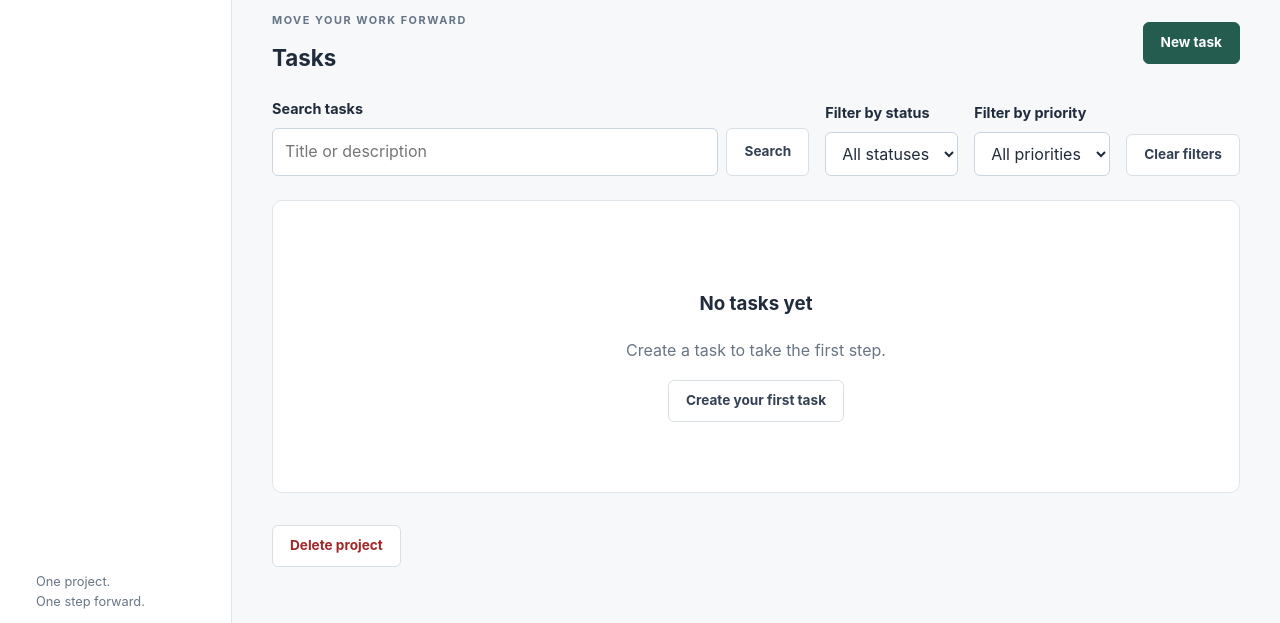
Scenario: blocks duplicate creation and preserves/focuses input after server validation fails
The width and height of the screenshot is (1280, 623).
(page scrolled)
Click the button "Create your first task" at x=756, y=401, box [668,380,844,422]
(page scrolled)
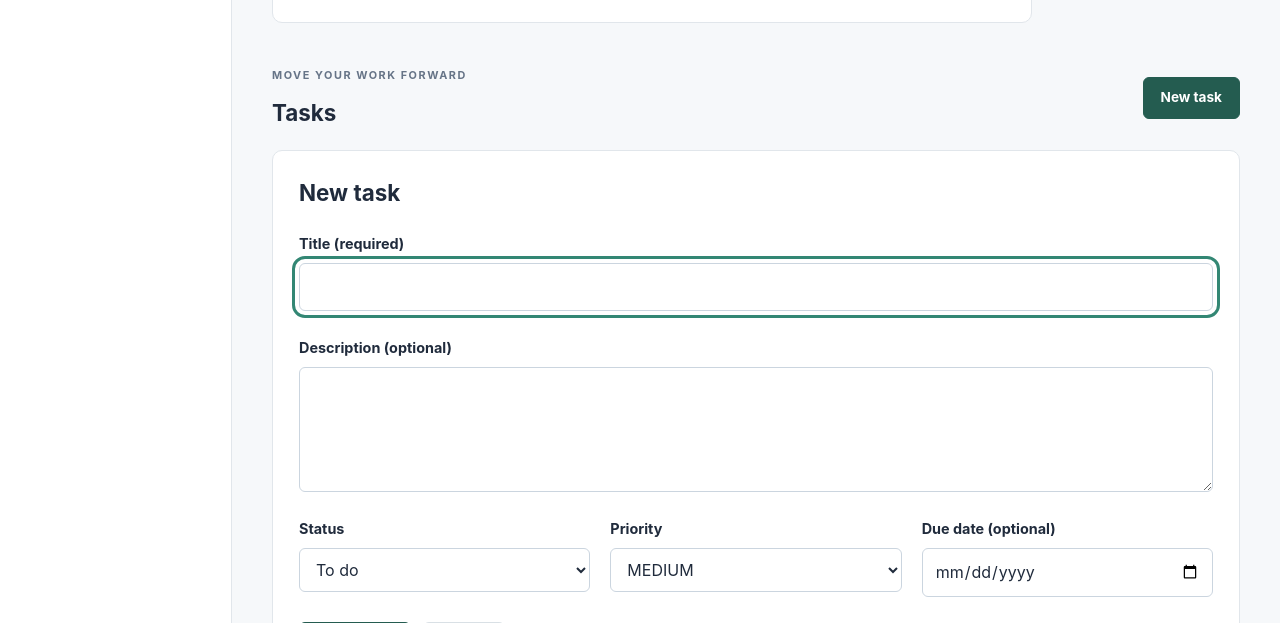
Type "Keep my input" into the field labelled "Title (required)" at x=756, y=287, box [299,264,1213,311]
(page scrolled)
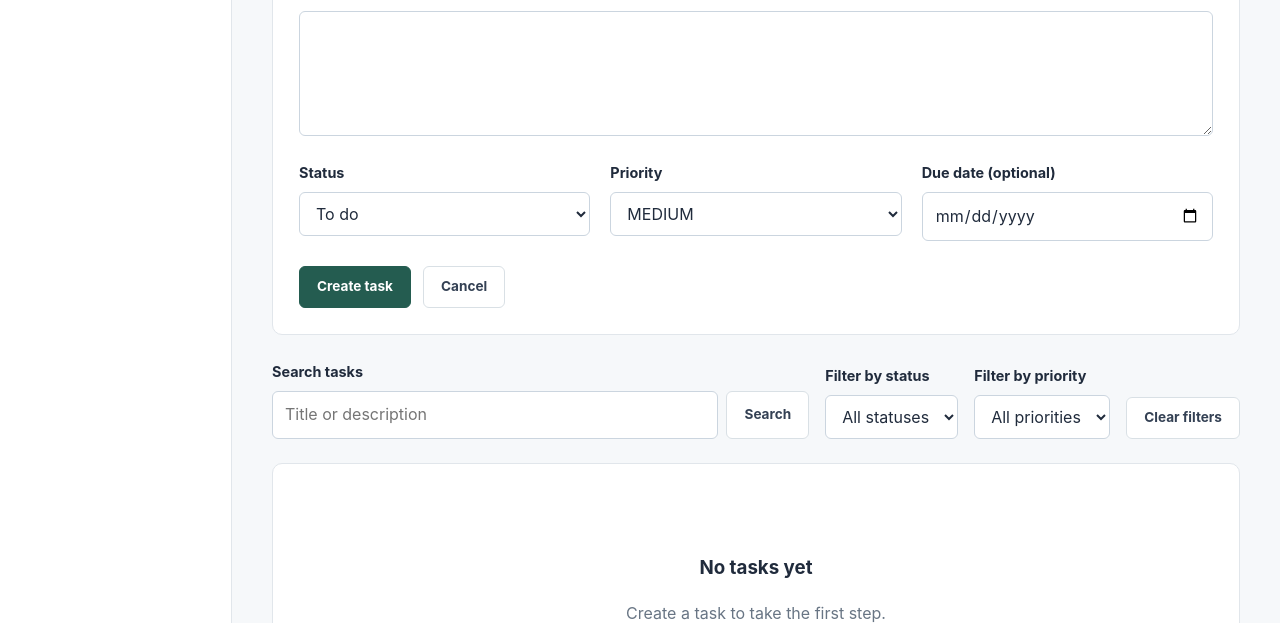
Click the button "Create task" at x=355, y=287, box [299,266,411,308]
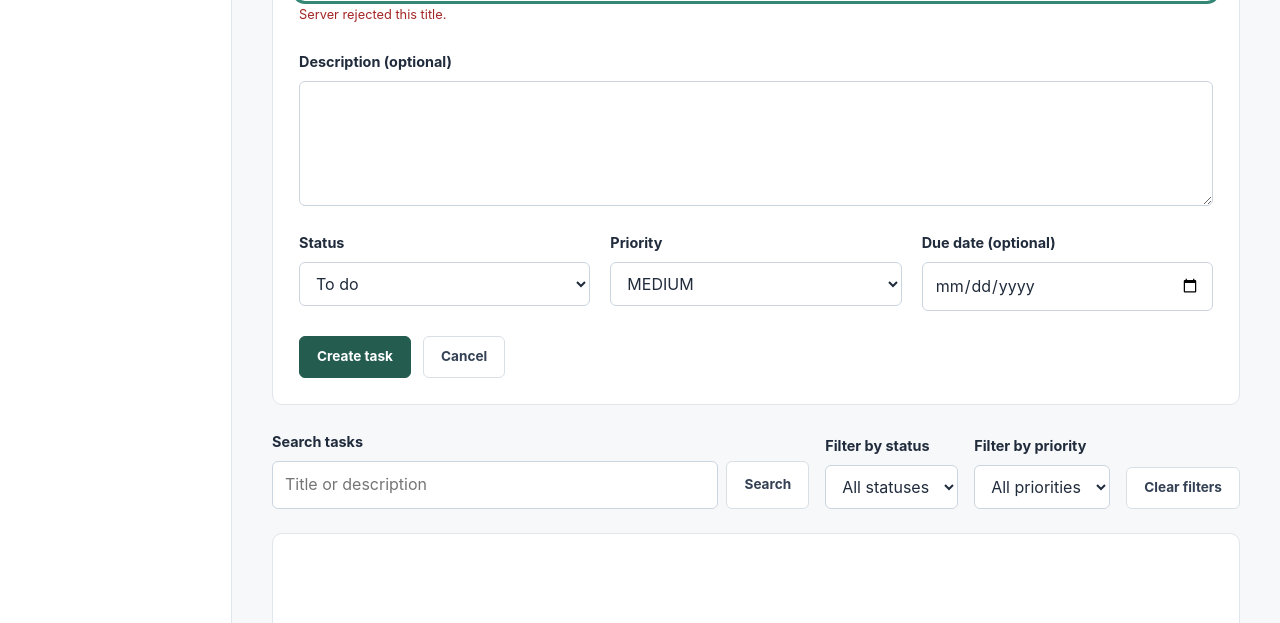
Expected: the text "Server rejected this title." is shown, [299,7,446,22]
